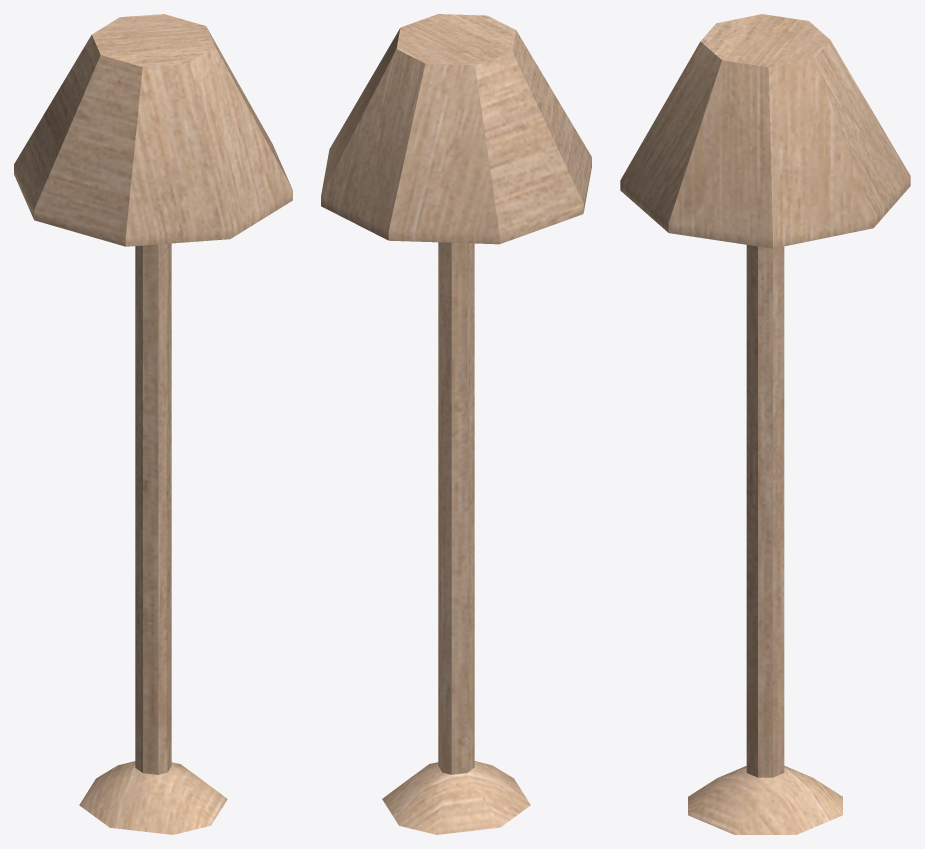
The model's file is lamp.FBX.
3 views of the same model, side by side, from view 1: azimuth 30°, elevation 25°; view 2: azimuth 150°, elevation 25°; view 3: azimuth 270°, elevation 25° (orthographic).
Visible parts, largest first — view 1: lamp; view 2: lamp; view 3: lamp.
Part boxes in pixels (x1=…): lamp: x1=14, y1=14, x2=292, y2=834; lamp: x1=321, y1=14, x2=591, y2=834; lamp: x1=620, y1=14, x2=910, y2=834.
Size of the model in its own units: 40.21 by 119 by 40.83.
